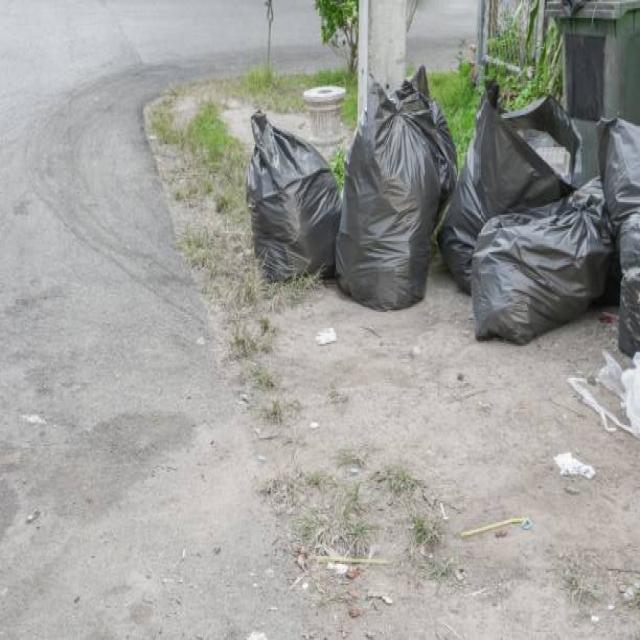garbage: (250, 38, 640, 356)
